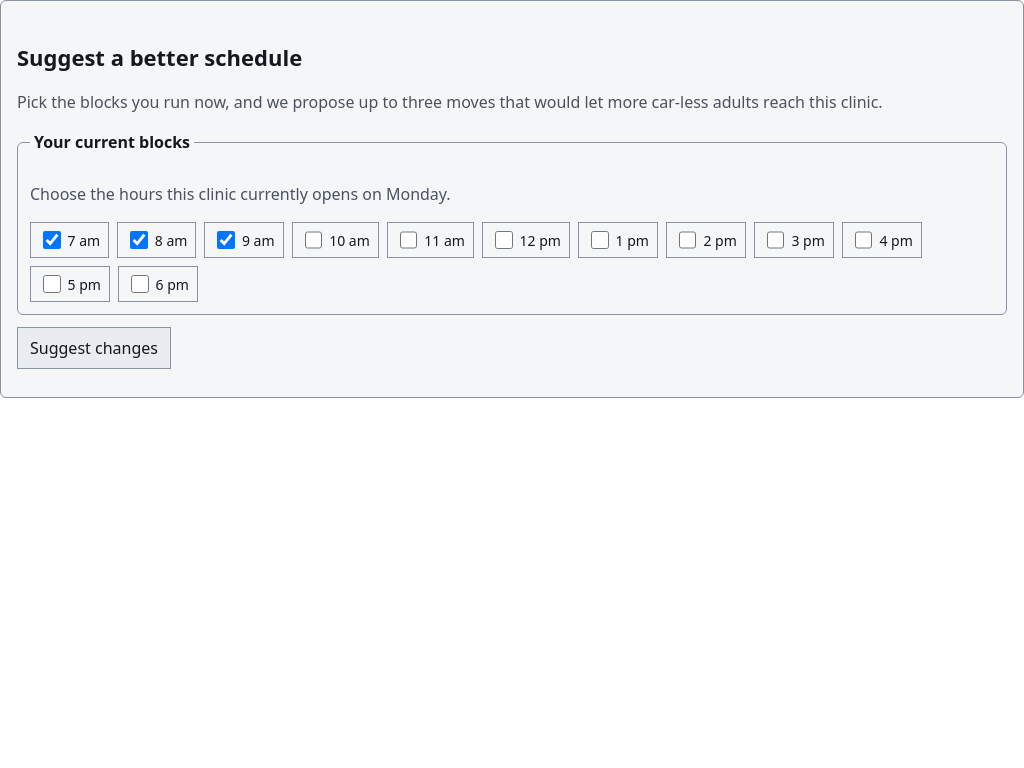
it: SuggestPanel › renders gain_people, gain_visit_hours and a chip per source
Click the button "Suggest changes" at [94, 348], box top-left (17, 327), bottom-right (171, 369)
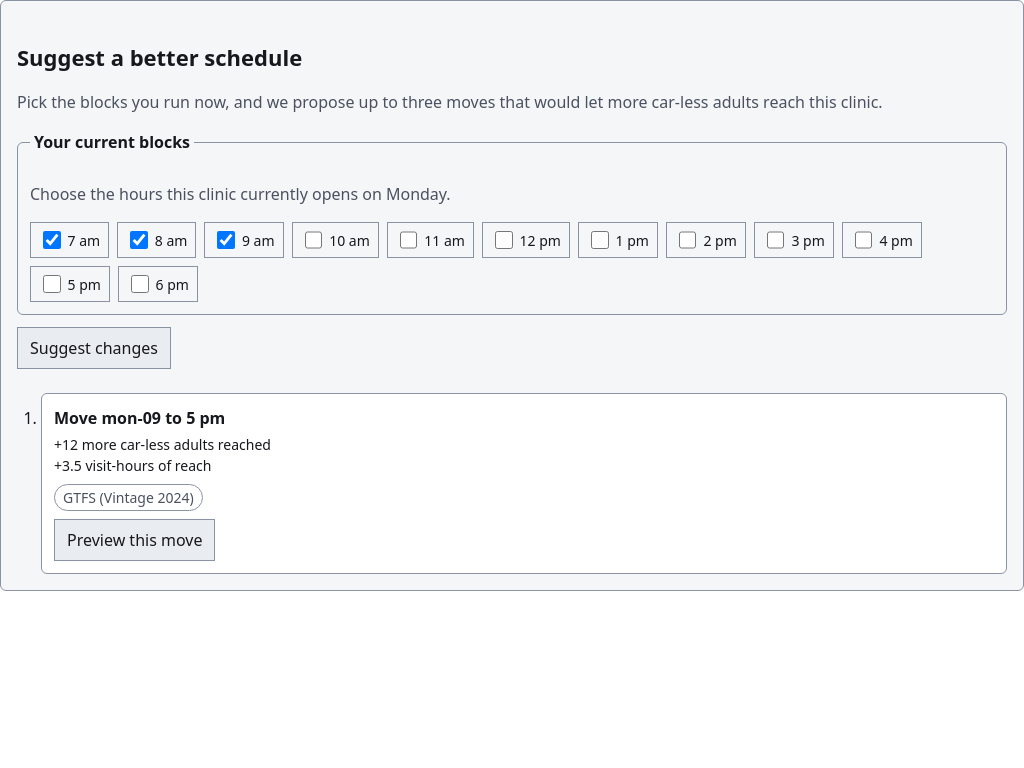
Check: the list item "+12 more car-less adults reached" is shown, box top-left (54, 435), bottom-right (271, 454)
Check: the list item "+3.5 visit-hours of reach" is shown, box top-left (54, 456), bottom-right (212, 475)
Check: the text "GTFS (Vintage 2024)" is shown, box top-left (63, 487), bottom-right (194, 508)
